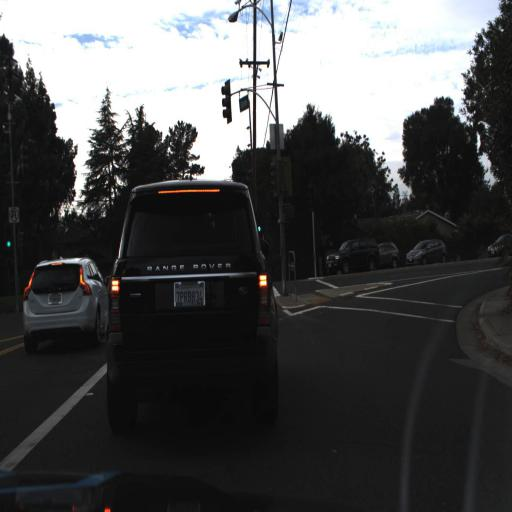car: (106, 179, 279, 430), (18, 256, 108, 351), (324, 236, 382, 278), (405, 236, 448, 267), (366, 237, 402, 273), (487, 225, 511, 264)
trafficLight-Green: (4, 230, 14, 260)
